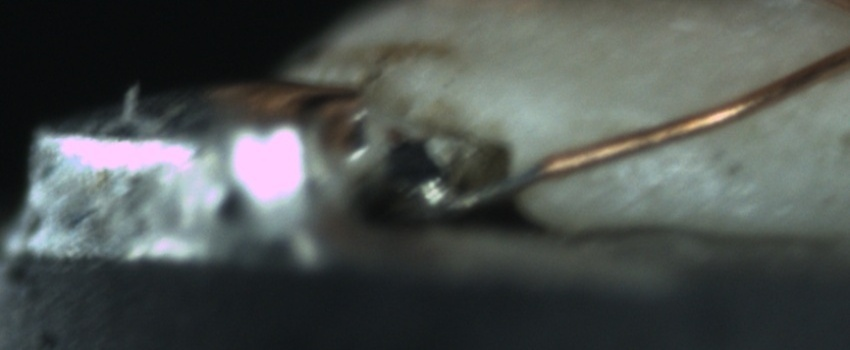TS: (439, 166, 552, 215)
TTCW: (437, 155, 569, 212)
